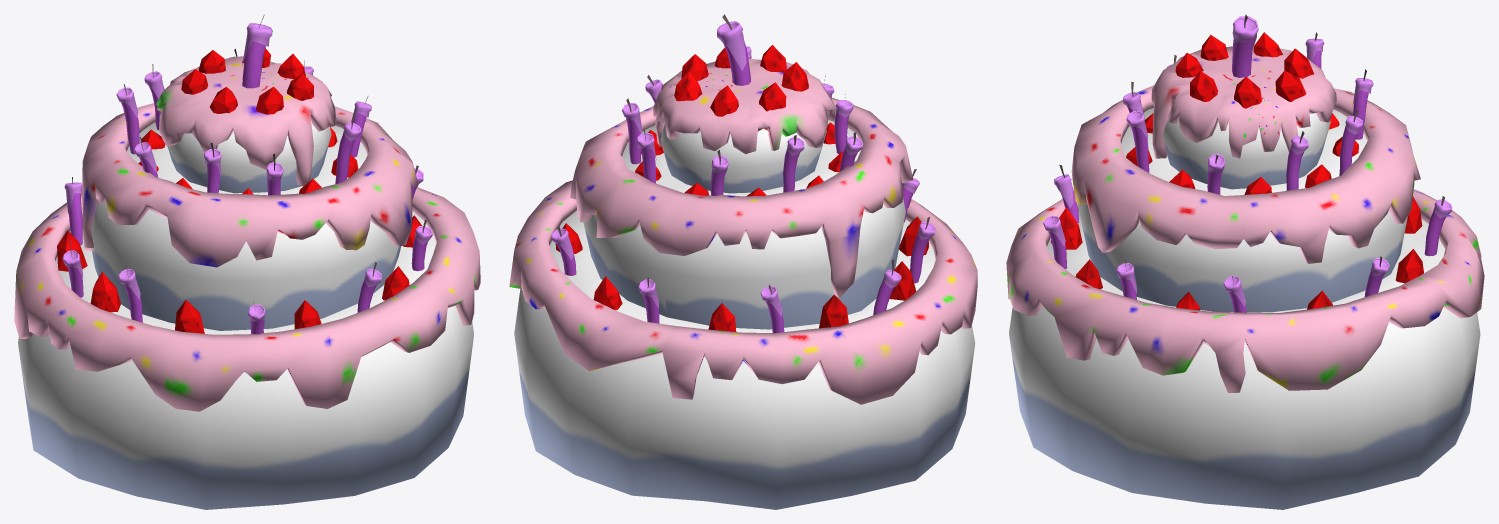
3 renders of one model, left to right at view 1: azimuth 30°, elevation 25°; view 2: azimuth 150°, elevation 25°; view 3: azimuth 270°, elevation 25°, orthographic. The views are drawn at different scales.
Parts seen in each view (by area): view 1: Cake, Yummy, Candles, Berry; view 2: Cake, Yummy, Candles, Berry; view 3: Cake, Yummy, Candles, Berry.
Part boxes in pixels (left/top/right/bottom): Cake: left=18, top=120, right=473, bottom=509; Yummy: left=14, top=56, right=480, bottom=411; Candles: left=62, top=15, right=432, bottom=334; Berry: left=57, top=48, right=421, bottom=333; Cake: left=514, top=120, right=975, bottom=509; Yummy: left=509, top=58, right=977, bottom=404; Candles: left=552, top=14, right=935, bottom=333; Berry: left=555, top=45, right=928, bottom=331; Cake: left=1009, top=108, right=1480, bottom=509; Yummy: left=1006, top=46, right=1484, bottom=392; Candles: left=1043, top=14, right=1452, bottom=312; Berry: left=1050, top=32, right=1423, bottom=310.
Size of the model in its own units: 0.9577 by 0.8988 by 0.949.
1 material, 1 textured.
